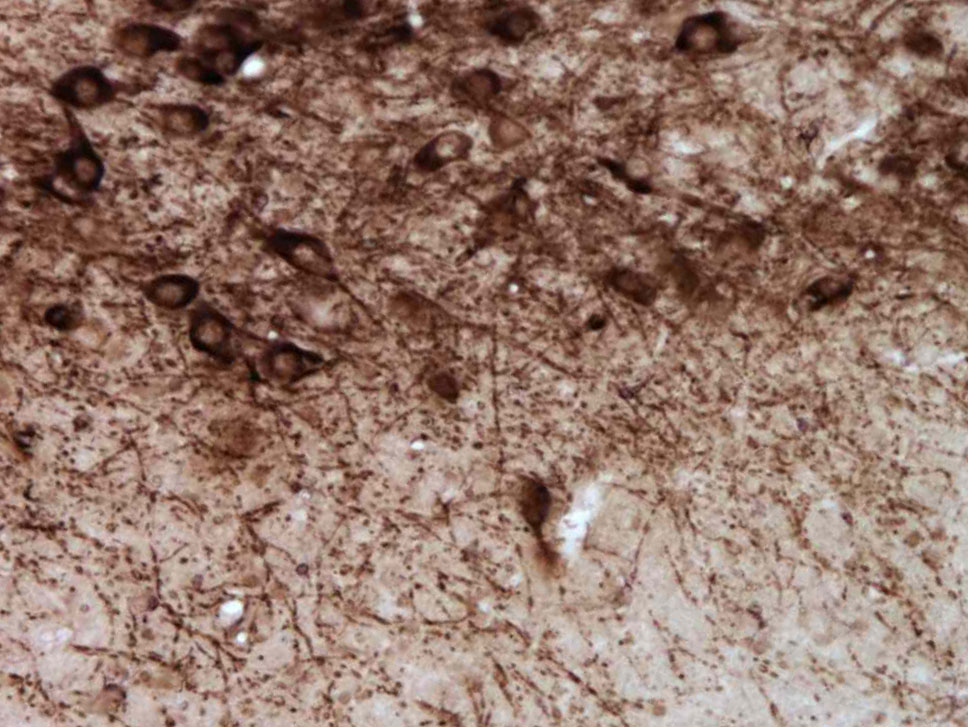neuron: (261, 226, 337, 283), (410, 124, 478, 179), (678, 9, 746, 64), (52, 64, 120, 115), (148, 102, 217, 141), (111, 19, 180, 58), (139, 271, 201, 311), (186, 313, 238, 357), (265, 342, 317, 386), (65, 144, 106, 196), (488, 113, 529, 151), (499, 10, 540, 48), (198, 31, 239, 52), (179, 58, 210, 85), (215, 55, 238, 77)
